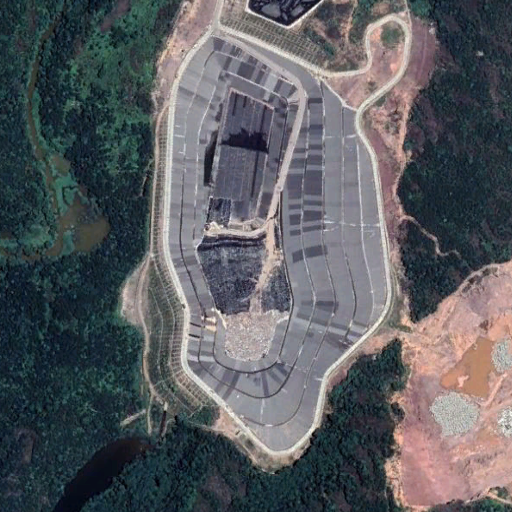lf: (160, 33, 396, 463)
